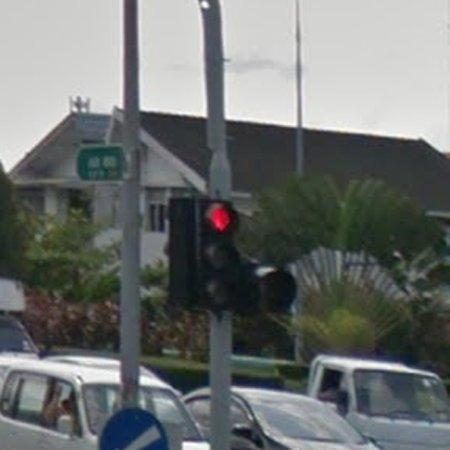traffic lights: (194, 197, 245, 312)
